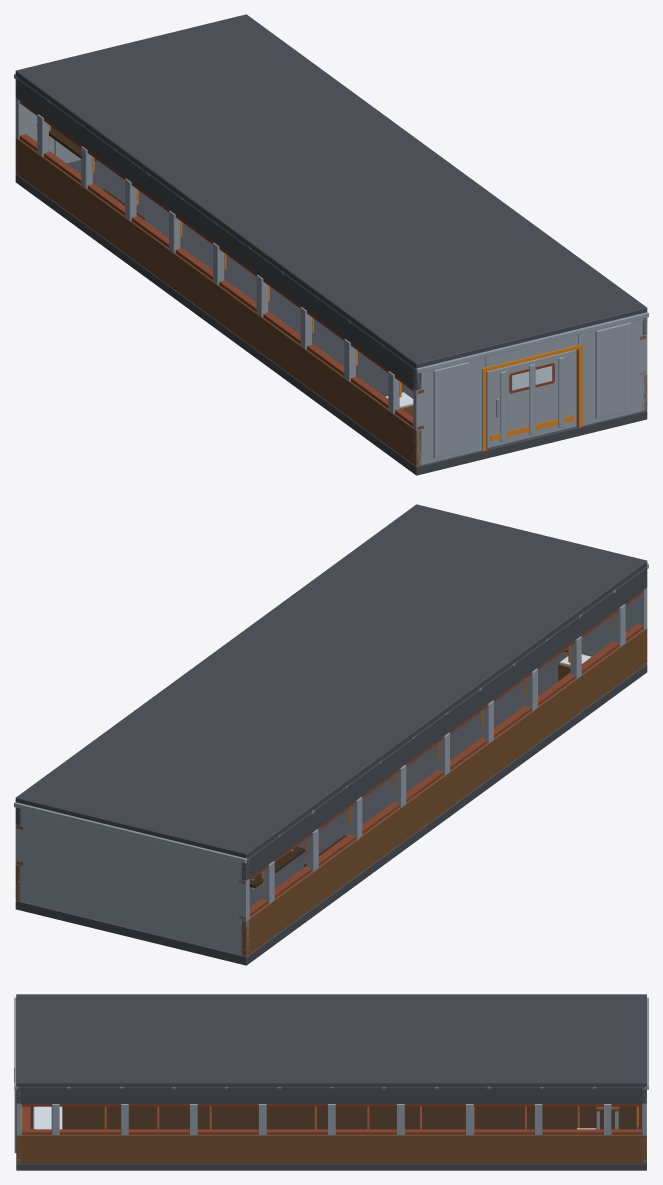
The model's file is TrainInterior.fbx.
The picture shows the model from 3 angles, top to bottom: view 1: azimuth 30°, elevation 25°; view 2: azimuth 150°, elevation 25°; view 3: azimuth 270°, elevation 25°; orthographic projection. The views are drawn at different scales.
Parts seen in each view (by area): view 1: TrainBody, TrainDoor; view 2: TrainBody; view 3: TrainBody.
Boxes of the visible parts, x1,y1,x2,y2 form: TrainBody: [14, 14, 648, 475]; TrainDoor: [486, 350, 576, 448]; TrainBody: [14, 504, 648, 965]; TrainBody: [14, 994, 648, 1170].
Bounding box in the file's own units: 804 × 370 × 2417.
